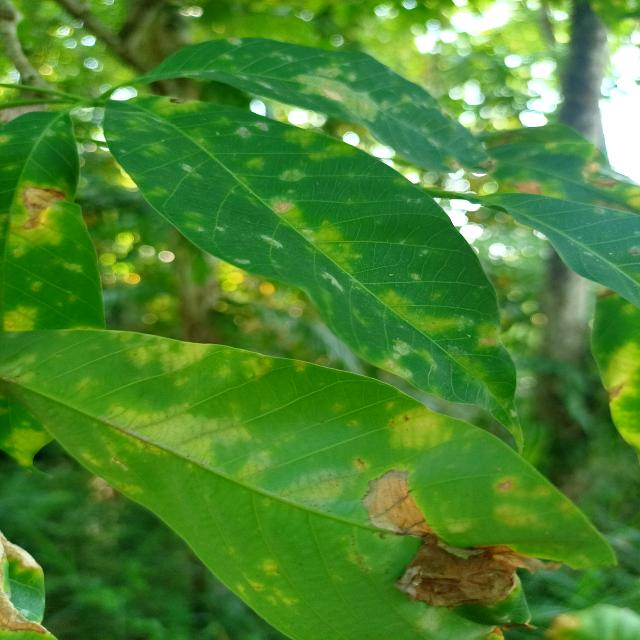Leaf-Blight: (397, 536, 562, 610), (362, 469, 435, 541), (0, 583, 50, 634), (21, 186, 68, 230), (0, 531, 43, 568)
